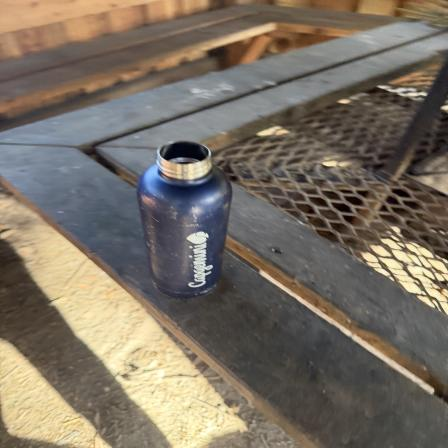blue_bottle: (140, 140, 231, 297)
